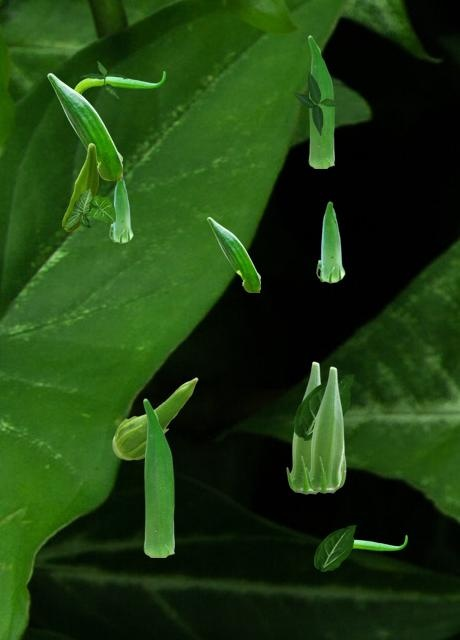okra: (47, 73, 121, 179), (112, 377, 197, 459), (305, 366, 345, 492), (143, 398, 173, 556), (286, 361, 321, 493), (207, 217, 259, 291), (308, 35, 333, 167), (62, 143, 97, 230), (316, 201, 344, 282), (74, 71, 164, 94), (109, 174, 132, 242), (354, 535, 406, 551)
